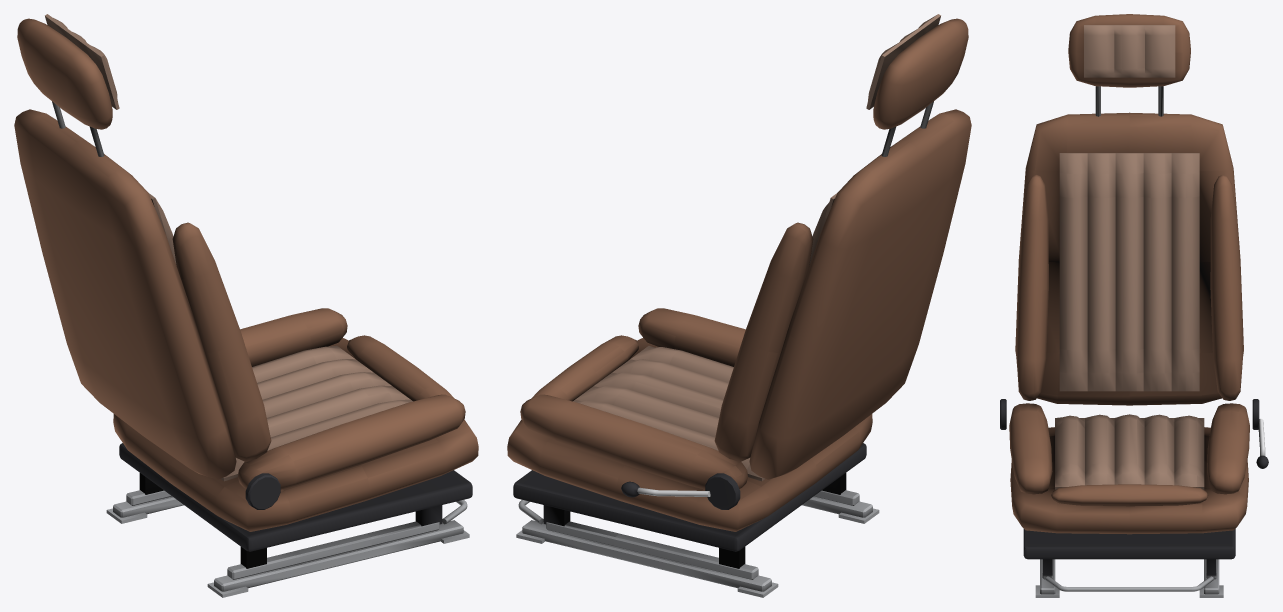
Rendered from seat_bucket.glb.
3 renders of one model, left to right at view 1: azimuth 30°, elevation 25°; view 2: azimuth 150°, elevation 25°; view 3: azimuth 270°, elevation 25°, orthographic. The views are drawn at different scales.
Parts seen in each view (by area): view 1: PART; view 2: PART; view 3: PART.
Part boxes in pixels (x1,y1,x2,y2): PART: (14,14,478,597); PART: (507,14,971,597); PART: (1000,14,1268,597).
Bounding box in the file's own units: 0.7442 × 1.01 × 0.558.
